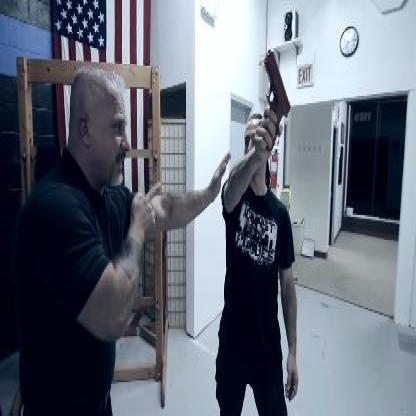pistol: (263, 47, 291, 152)
